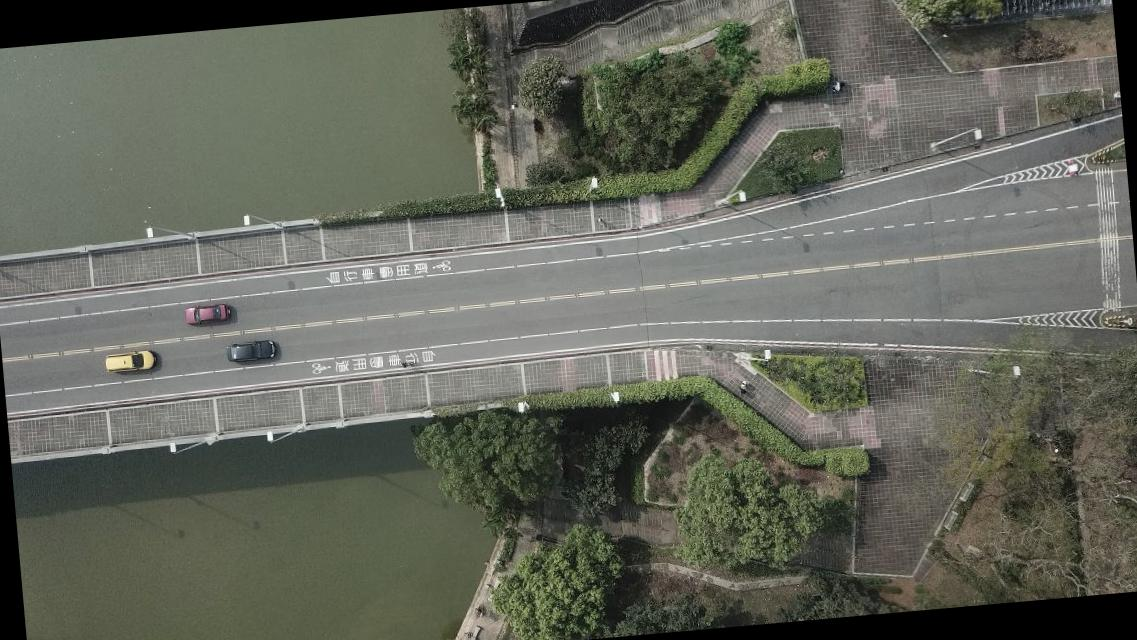vehicle: (224, 340, 276, 365), (104, 350, 158, 374), (183, 302, 232, 326)
